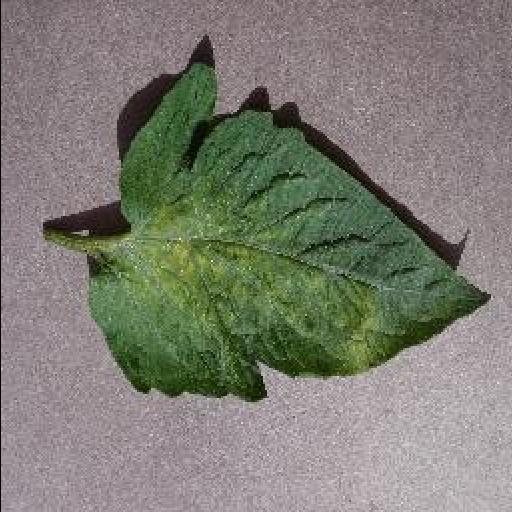disease_tomato: (84, 62, 494, 400)
